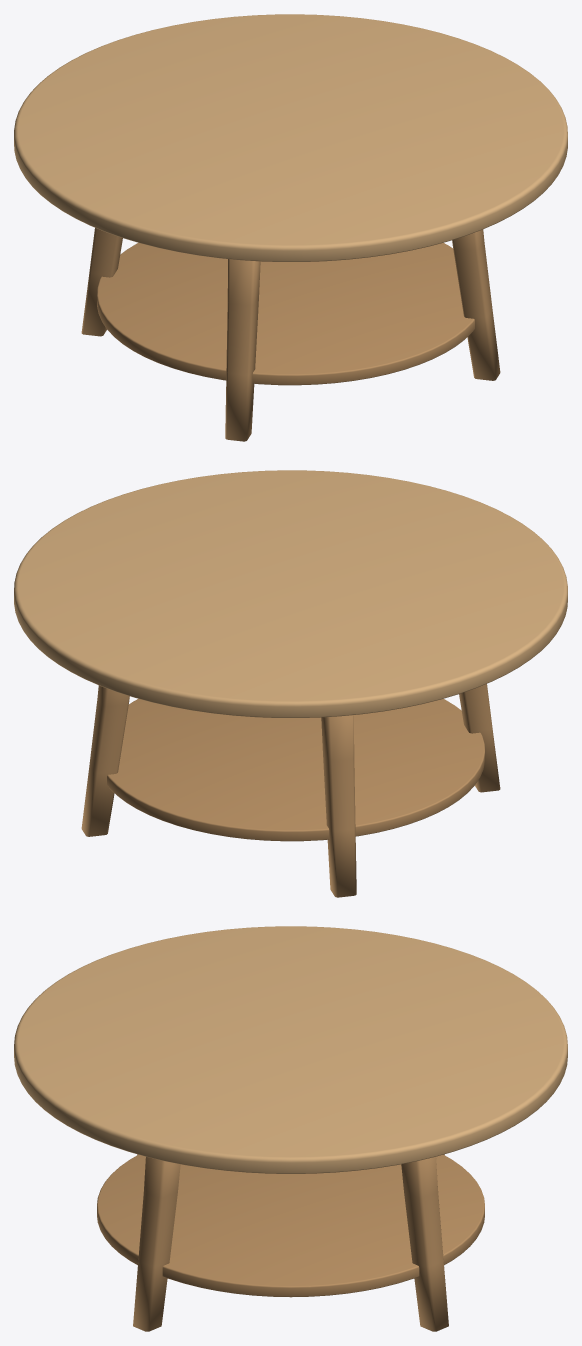
The picture shows the model from 3 angles, top to bottom: view 1: azimuth 30°, elevation 25°; view 2: azimuth 150°, elevation 25°; view 3: azimuth 270°, elevation 25°; orthographic projection.
Visible parts, largest first — view 1: F007; view 2: F007; view 3: F007.
Boxes of the visible parts, x1,y1,x2,y2 form: F007: (14,14,567,441); F007: (14,470,567,897); F007: (14,926,567,1331).
Size of the model in its own units: 0.9144 by 0.4064 by 0.9144.
